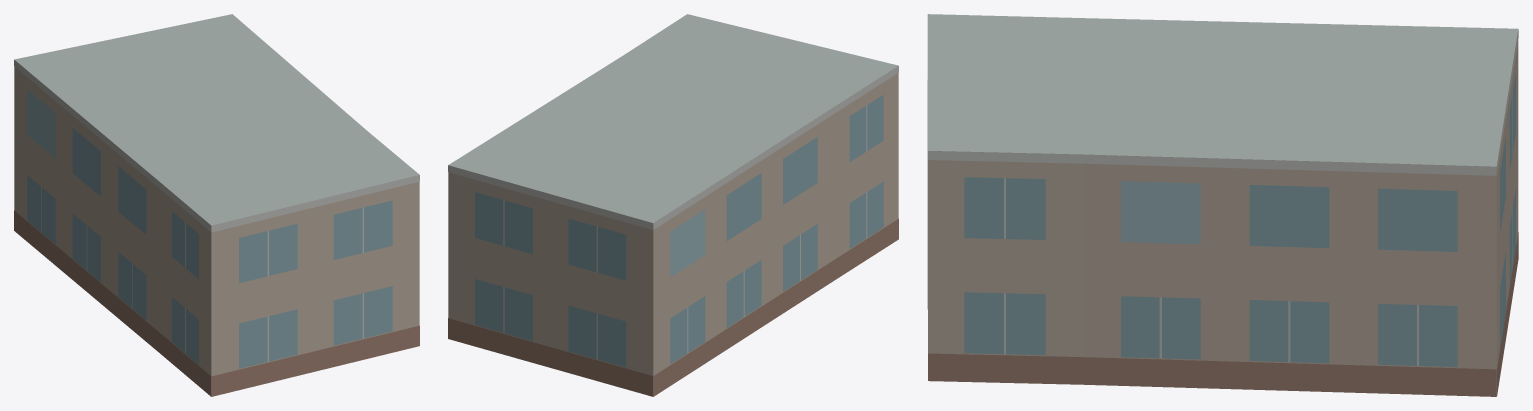
File: survey-upis-32818694.glb
The picture shows the model from 3 angles, left to right: view 1: azimuth 30°, elevation 25°; view 2: azimuth 150°, elevation 25°; view 3: azimuth 270°, elevation 25°; orthographic projection. The views are drawn at different scales.
Parts seen in each view (by area): view 1: survey-upis-32818694.tmp; view 2: survey-upis-32818694.tmp; view 3: survey-upis-32818694.tmp.
Part boxes in pixels (x1=…): survey-upis-32818694.tmp: x1=14, y1=14, x2=419, y2=396; survey-upis-32818694.tmp: x1=448, y1=14, x2=898, y2=396; survey-upis-32818694.tmp: x1=927, y1=14, x2=1518, y2=396.
Bounding box in the file's own units: 8.68 × 6.1 × 14.2.
